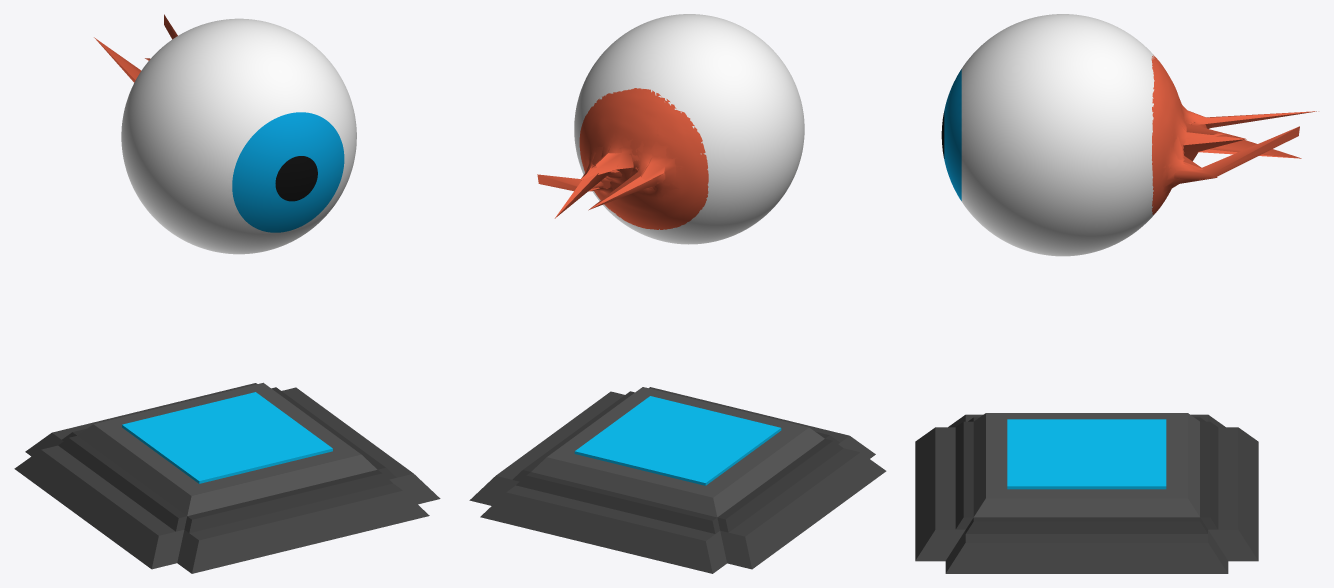
The model's file is Eyeball on Display.fbx.
3 renders of one model, left to right at view 1: azimuth 30°, elevation 25°; view 2: azimuth 150°, elevation 25°; view 3: azimuth 270°, elevation 25°, orthographic. The views are drawn at different scales.
Visible parts, largest first — view 1: Bottom Block; view 2: Bottom Block; view 3: Bottom Block.
Boxes of the visible parts, x1=… form: Bottom Block: x1=14, y1=14, x2=440, y2=573; Bottom Block: x1=469, y1=14, x2=886, y2=573; Bottom Block: x1=915, y1=14, x2=1318, y2=573.
Size of the model in its own units: 340 by 520 by 401.
